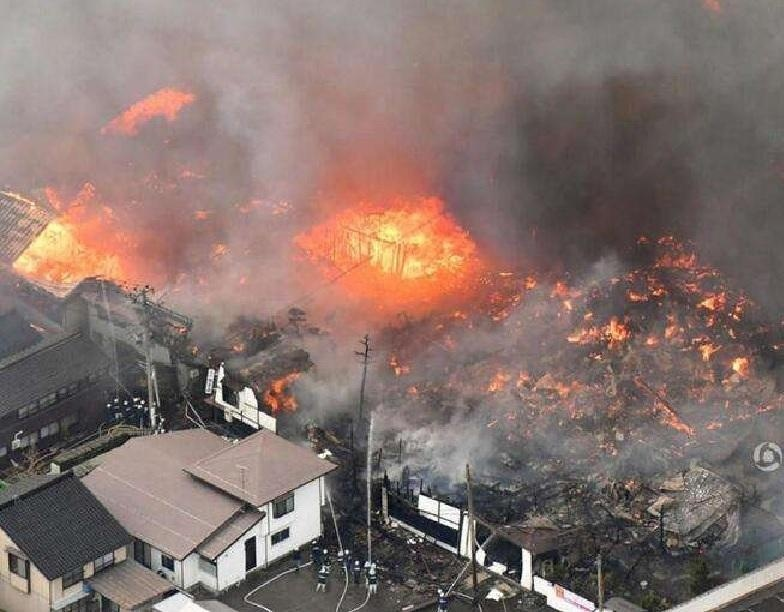fire: (293, 194, 480, 288), (2, 180, 142, 296), (104, 83, 196, 135), (263, 367, 302, 411)
